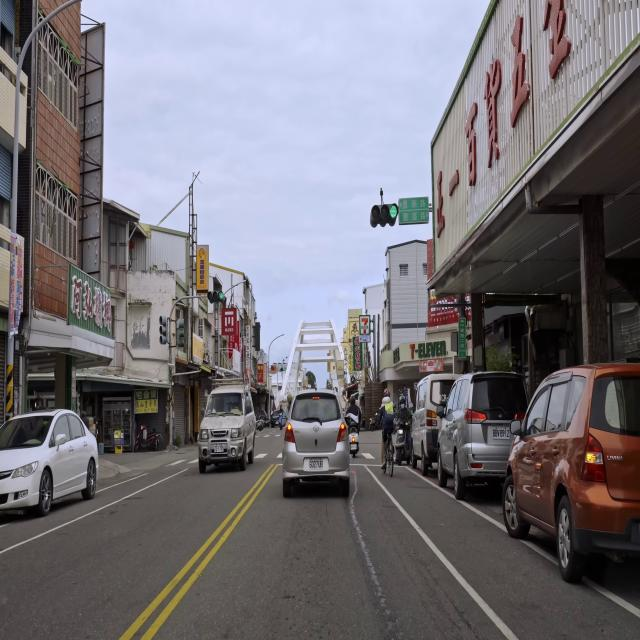green light: (369, 203, 399, 221), (207, 290, 224, 301)
